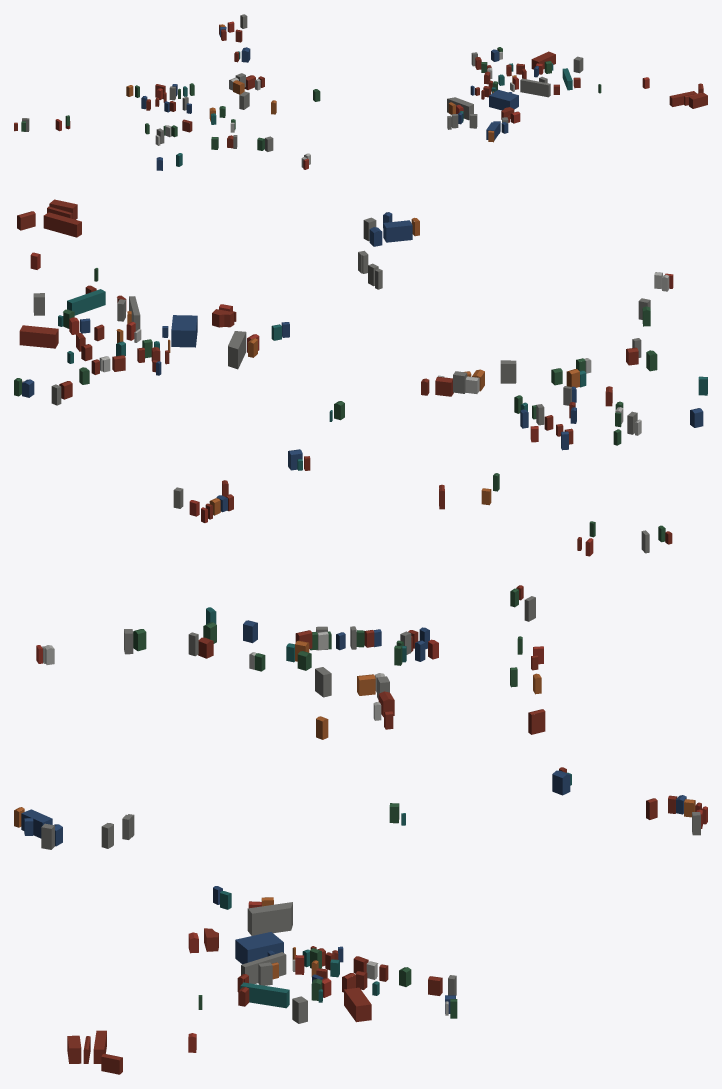
File: near-15-27363-14859.0495525f.glb
3 renders of one model, top to bottom at view 1: azimuth 30°, elevation 25°; view 2: azimuth 150°, elevation 25°; view 3: azimuth 270°, elevation 25°, orthographic. The views are drawn at different scales.
Bounding box in the file's own units: 1129 × 138 × 723.
